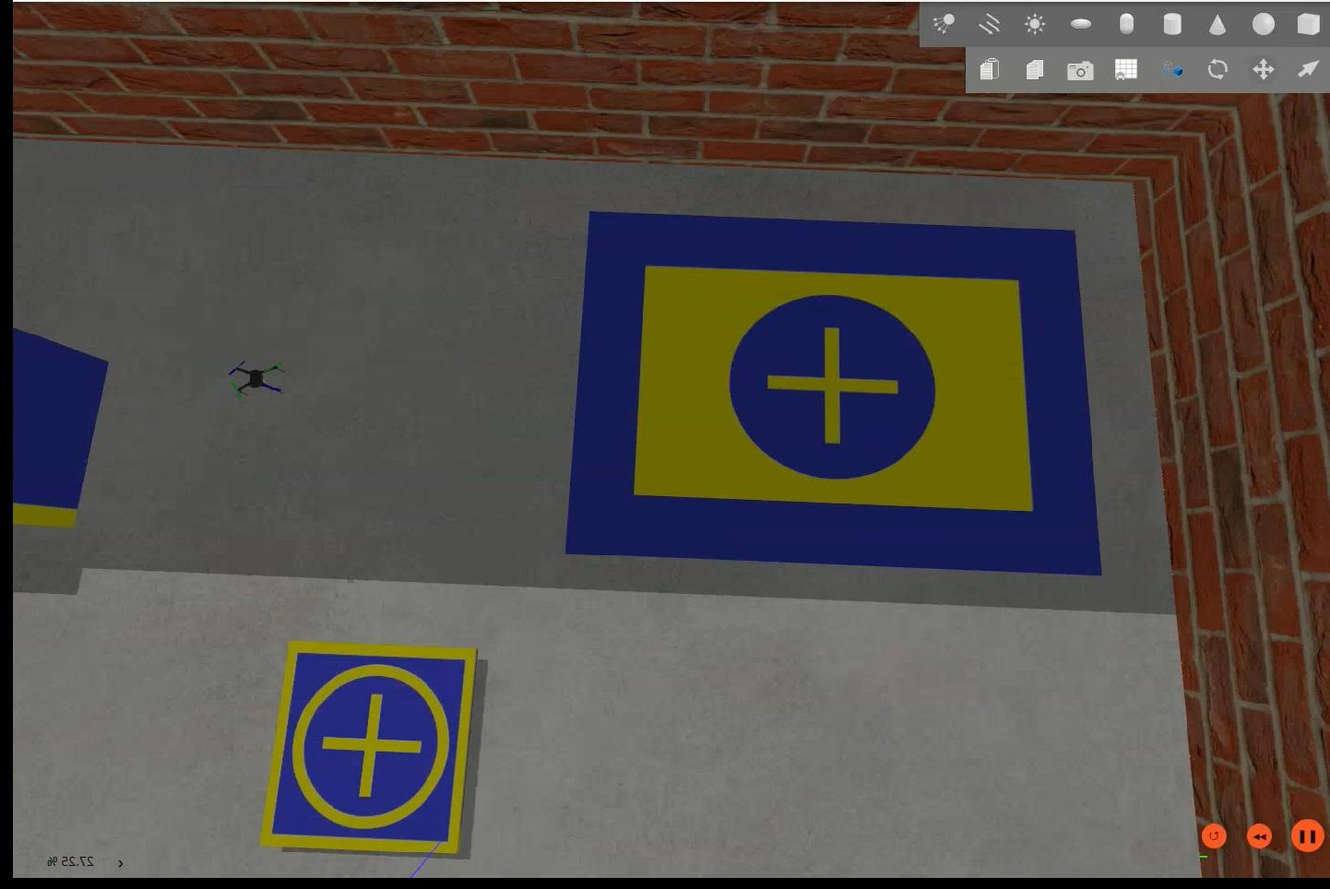large_base: (558, 212, 1102, 575)
small_base: (255, 638, 476, 857)
